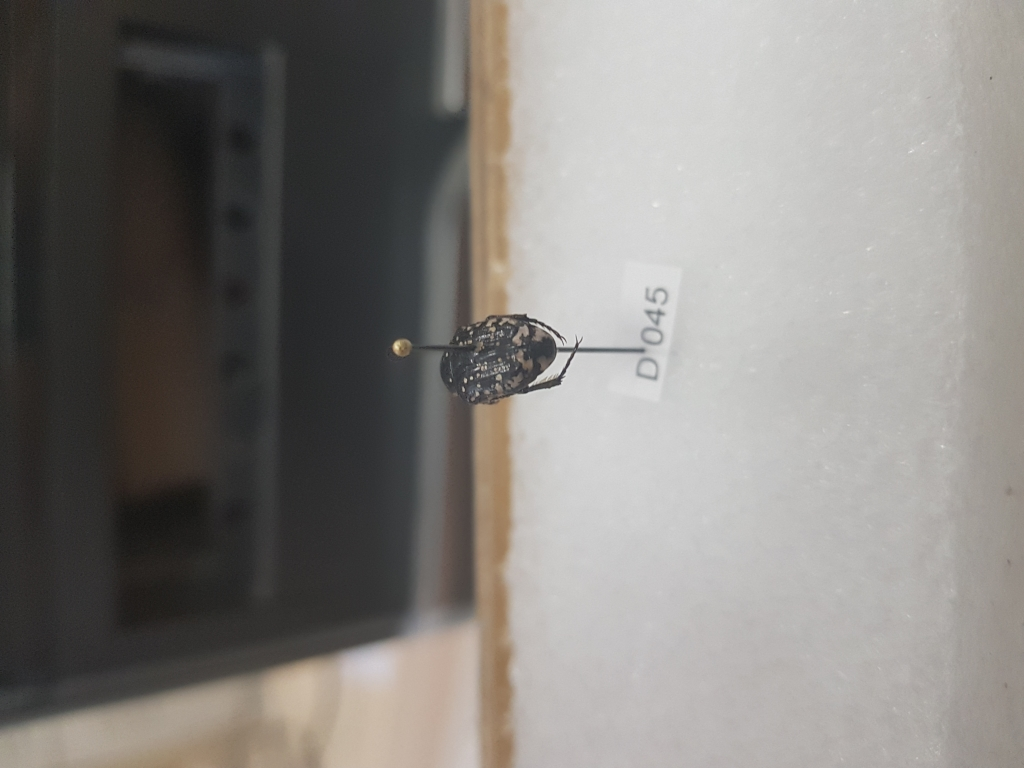Oxythyrea_cinctella: (432, 313, 587, 405)
